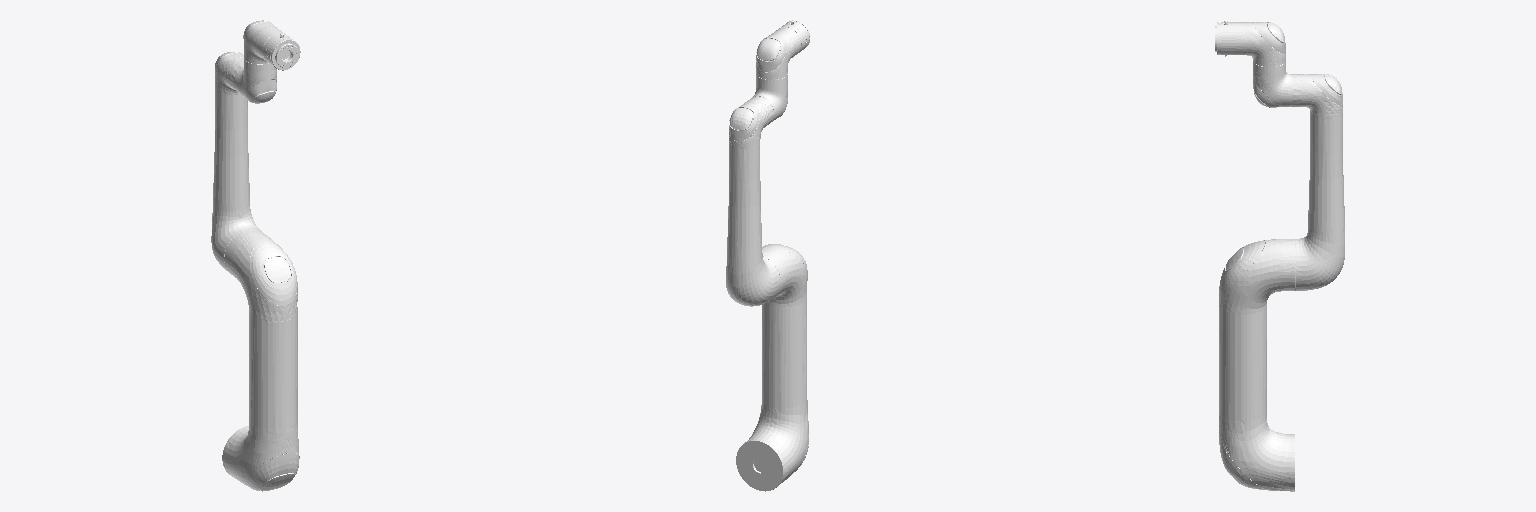
The robot description file, URDF, robot "cr30h_robot":
<?xml version="1.0" encoding="utf-8"?>
<robot
  name="cr30h_robot">
  <link name="dummy_link"/>
  <link
    name="base_link">
    <inertial>
      <origin
        xyz="-1.78212555854348E-05 0.00033084177723393 0.0931967971971018"
        rpy="0 0 0" />
      <mass
        value="3.62558882362798" />
      <inertia
        ixx="0.0188475732650718"
        ixy="-1.37313910460006E-06"
        ixz="-4.46309791436276E-06"
        iyy="0.0186121426737853"
        iyz="7.17633946778761E-05"
        izz="0.0272514849943692" />
    </inertial>
    <visual>
      <origin
        xyz="0 0 0"
        rpy="0 0 0" />
      <geometry>
        <mesh
          filename="package://dobot_rviz/meshes/cr30h/base_link.STL" />
      </geometry>
      <material
        name="">
        <color
          rgba="1 1 1 1" />
      </material>
    </visual>
    <collision>
      <origin
        xyz="0 0 0"
        rpy="0 0 0" />
      <geometry>
        <mesh
          filename="package://dobot_rviz/meshes/cr30h/base_link.STL" />
      </geometry>
    </collision>
  </link>
  <joint name="dummy_joint" type="fixed">
      <parent link="dummy_link" />
      <child  link="base_link" />
    </joint>
  <link
    name="Link1">
    <inertial>
      <origin
        xyz="0.0685683156633234 6.45617962612603E-06 0.0352475118413176"
        rpy="0 0 0" />
      <mass
        value="14.4147388577882" />
      <inertia
        ixx="0.117399762147082"
        ixy="-1.3100541842346E-07"
        ixz="0.0356431430537303"
        iyy="0.187002726933162"
        iyz="6.38547998155339E-07"
        izz="0.161038602803283" />
    </inertial>
    <visual>
      <origin
        xyz="0 0 0"
        rpy="0 0 0" />
      <geometry>
        <mesh
          filename="package://dobot_rviz/meshes/cr30h/Link1.STL" />
      </geometry>
      <material
        name="">
        <color
          rgba="1 1 1 1" />
      </material>
    </visual>
    <collision>
      <origin
        xyz="0 0 0"
        rpy="0 0 0" />
      <geometry>
        <mesh
          filename="package://dobot_rviz/meshes/cr30h/Link1.STL" />
      </geometry>
    </collision>
  </link>
  <joint
    name="joint1"
    type="revolute">
    <origin
      xyz="0 0 0.386"
      rpy="1.5708 1.5708 0" />
    <parent
      link="base_link" />
    <child
      link="Link1" />
    <axis
      xyz="-1 0 0" />
    <limit
      lower="-6.28"
      upper="6.28"
      effort="0"
      velocity="0" />
  </joint>
  <link
    name="Link2">
    <inertial>
      <origin
        xyz="-0.398905663494017 1.92684404646904E-06 0.340471375570728"
        rpy="0 0 0" />
      <mass
        value="35.1837906440538" />
      <inertia
        ixx="0.274172849710145"
        ixy="-2.79808731990376E-05"
        ixz="0.0178158997550407"
        iyy="3.75626158130774"
        iyz="7.44413946972762E-06"
        izz="3.66050132171213" />
    </inertial>
    <visual>
      <origin
        xyz="0 0 0"
        rpy="0 0 0" />
      <geometry>
        <mesh
          filename="package://dobot_rviz/meshes/cr30h/Link2.STL" />
      </geometry>
      <material
        name="">
        <color
          rgba="1 1 1 1" />
      </material>
    </visual>
    <collision>
      <origin
        xyz="0 0 0"
        rpy="0 0 0" />
      <geometry>
        <mesh
          filename="package://dobot_rviz/meshes/cr30h/Link2.STL" />
      </geometry>
    </collision>
  </link>
  <joint
    name="joint2"
    type="revolute">
    <origin
      xyz="0 0 0"
      rpy="0 0 0" />
    <parent
      link="Link1" />
    <child
      link="Link2" />
    <axis
      xyz="0 0 1" />
    <limit
      lower="-6.28"
      upper="6.28"
      effort="0"
      velocity="0" />
  </joint>
  <link
    name="Link3">
    <inertial>
      <origin
        xyz="-0.311995849028024 -2.45961873714507E-06 0.0755143467372146"
        rpy="0 0 0" />
      <mass
        value="15.319320357705" />
      <inertia
        ixx="0.0549431220959"
        ixy="-7.19675342087617E-06"
        ixz="-0.0219294614712449"
        iyy="1.16897867168856"
        iyz="1.09525212299586E-06"
        izz="1.15939372786569" />
    </inertial>
    <visual>
      <origin
        xyz="0 0 0"
        rpy="0 0 0" />
      <geometry>
        <mesh
          filename="package://dobot_rviz/meshes/cr30h/Link3.STL" />
      </geometry>
      <material
        name="">
        <color
          rgba="1 1 1 1" />
      </material>
    </visual>
    <collision>
      <origin
        xyz="0 0 0"
        rpy="0 0 0" />
      <geometry>
        <mesh
          filename="package://dobot_rviz/meshes/cr30h/Link3.STL" />
      </geometry>
    </collision>
  </link>
  <joint
    name="joint3"
    type="revolute">
    <origin
      xyz="-0.84 0 0"
      rpy="0 0 0" />
    <parent
      link="Link2" />
    <child
      link="Link3" />
    <axis
      xyz="1.0869E-05 -5.499E-05 -1" />
    <limit
      lower="-2.79"
      upper="2.79"
      effort="0"
      velocity="0" />
  </joint>
  <link
    name="Link4">
    <inertial>
      <origin
        xyz="-8.57425838810129E-07 -0.0319217802585721 -0.0137198757861597"
        rpy="0 0 0" />
      <mass
        value="2.61293279831353" />
      <inertia
        ixx="0.0104099655758254"
        ixy="4.37316634029077E-08"
        ixz="-1.41265169952098E-07"
        iyy="0.00671272940307182"
        iyz="0.00125622535616839"
        izz="0.00920549791565436" />
    </inertial>
    <visual>
      <origin
        xyz="0 0 0"
        rpy="0 0 0" />
      <geometry>
        <mesh
          filename="package://dobot_rviz/meshes/cr30h/Link4.STL" />
      </geometry>
      <material
        name="">
        <color
          rgba="1 1 1 1" />
      </material>
    </visual>
    <collision>
      <origin
        xyz="0 0 0"
        rpy="0 0 0" />
      <geometry>
        <mesh
          filename="package://dobot_rviz/meshes/cr30h/Link4.STL" />
      </geometry>
    </collision>
  </link>
  <joint
    name="joint4"
    type="revolute">
    <origin
      xyz="-0.74 0 0.277"
      rpy="0 0 -1.5708" />
    <parent
      link="Link3" />
    <child
      link="Link4" />
    <axis
      xyz="0 0 1" />
    <limit
      lower="-6.28"
      upper="6.28"
      effort="0"
      velocity="0" />
  </joint>
  <link
    name="Link5">
    <inertial>
      <origin
        xyz="8.46129739418622E-07 0.0319217771350954 -0.0137198627897681"
        rpy="0 0 0" />
      <mass
        value="2.61293334766506" />
      <inertia
        ixx="0.010409967784472"
        ixy="4.24619055119814E-08"
        ixz="1.41652897308557E-07"
        iyy="0.0067127314928378"
        iyz="-0.00125622463177166"
        izz="0.00920549783104573" />
    </inertial>
    <visual>
      <origin
        xyz="0 0 0"
        rpy="0 0 0" />
      <geometry>
        <mesh
          filename="package://dobot_rviz/meshes/cr30h/Link5.STL" />
      </geometry>
      <material
        name="">
        <color
          rgba="1 1 1 1" />
      </material>
    </visual>
    <collision>
      <origin
        xyz="0 0 0"
        rpy="0 0 0" />
      <geometry>
        <mesh
          filename="package://dobot_rviz/meshes/cr30h/Link5.STL" />
      </geometry>
    </collision>
  </link>
  <joint
    name="joint5"
    type="revolute">
    <origin
      xyz="0 -0.22 0"
      rpy="1.5708 0 0" />
    <parent
      link="Link4" />
    <child
      link="Link5" />
    <axis
      xyz="0 0 1" />
    <limit
      lower="-6.28"
      upper="6.28"
      effort="0"
      velocity="0" />
  </joint>
  <link
    name="Link6">
    <inertial>
      <origin
        xyz="-1.48486365630313E-05 -3.88625128908693E-05 -0.0440280633098416"
        rpy="0 0 0" />
      <mass
        value="0.927683989477254" />
      <inertia
        ixx="0.00138402817840661"
        ixy="-4.97862571992853E-09"
        ixz="7.27343797024477E-09"
        iyy="0.00137309138053452"
        iyz="-6.18606261796794E-07"
        izz="0.00187822403965052" />
    </inertial>
    <visual>
      <origin
        xyz="0 0 0"
        rpy="0 0 0" />
      <geometry>
        <mesh
          filename="package://dobot_rviz/meshes/cr30h/Link6.STL" />
      </geometry>
      <material
        name="">
        <color
          rgba="1 1 1 1" />
      </material>
    </visual>
    <collision>
      <origin
        xyz="0 0 0"
        rpy="0 0 0" />
      <geometry>
        <mesh
          filename="package://dobot_rviz/meshes/cr30h/Link6.STL" />
      </geometry>
    </collision>
  </link>
  <joint
    name="joint6"
    type="revolute">
    <origin
      xyz="0 0.211 0"
      rpy="-1.5708 0 0" />
    <parent
      link="Link5" />
    <child
      link="Link6" />
    <axis
      xyz="0 0 -1" />
    <limit
      lower="-6.28"
      upper="6.28"
      effort="0"
      velocity="0" />
  </joint>
</robot>

--- What the picture shows (computed from the rendered views, not written in the file) ---
3 views of the same robot in one strip: view 1: azimuth 30°, elevation 25°; view 2: azimuth 150°, elevation 25°; view 3: azimuth 270°, elevation 25° (orthographic).
Model cr30h_robot with 8 links and 7 joints (6 revolute, 1 fixed), rooted at dummy_link, posed every joint at zero.
Links seen in each view (by area): view 1: Link2, Link3, Link4, Link6, Link5; view 2: Link2, Link3, Link5, Link4; view 3: Link2, Link3, Link5, Link4, Link6.
Boxes of the visible links, x1,y1,x2,y2 form: Link2: (222,229,299,491); Link3: (211,52,260,270); Link4: (234,60,276,103); Link6: (263,33,300,70); Link5: (243,20,284,63); Link2: (736,244,808,491); Link3: (726,96,780,306); Link5: (756,27,800,79); Link4: (753,74,787,121); Link2: (1219,239,1295,491); Link3: (1293,74,1344,290); Link5: (1236,22,1285,66); Link4: (1253,62,1292,107); Link6: (1215,21,1235,56).
Size in the robot's own frame: 0.2242 by 0.5035 by 1.99 metres.
5 mesh visuals loaded from 7 distinct referenced files (5 binary STL); not drawn: 2 (reference not matched to a file when rendering).
